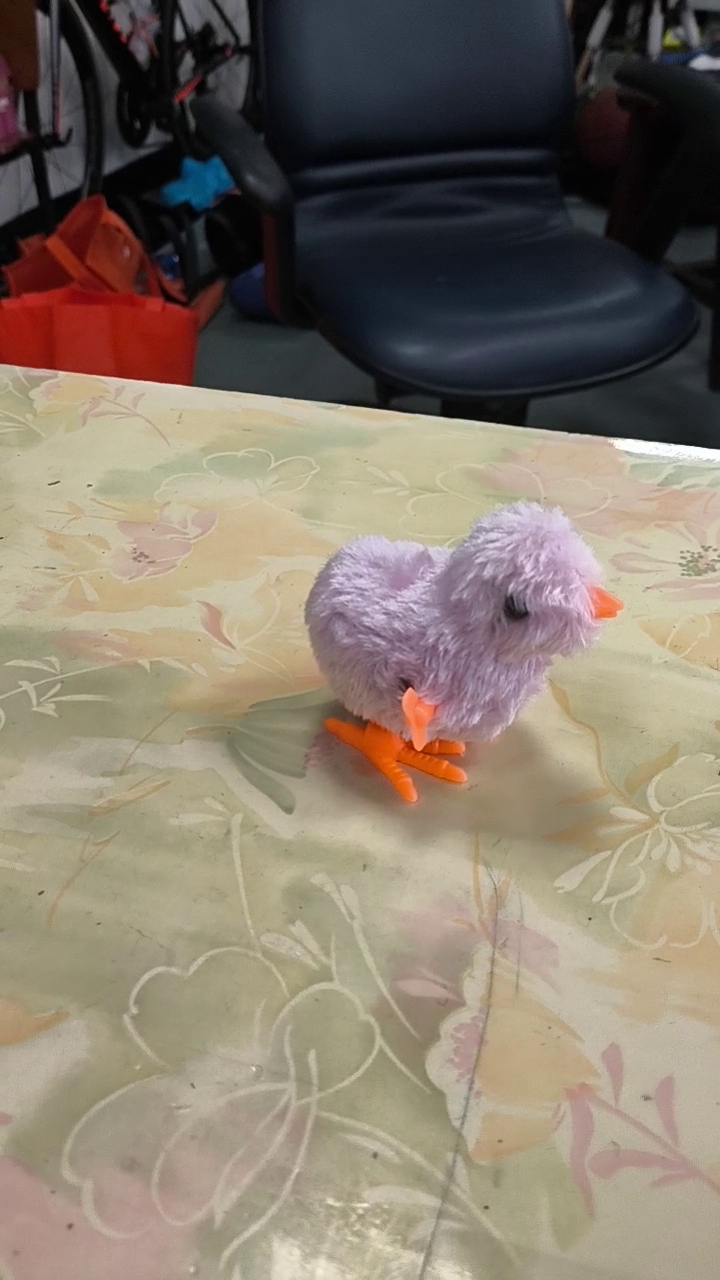pink chicken: (300, 495, 629, 811)
